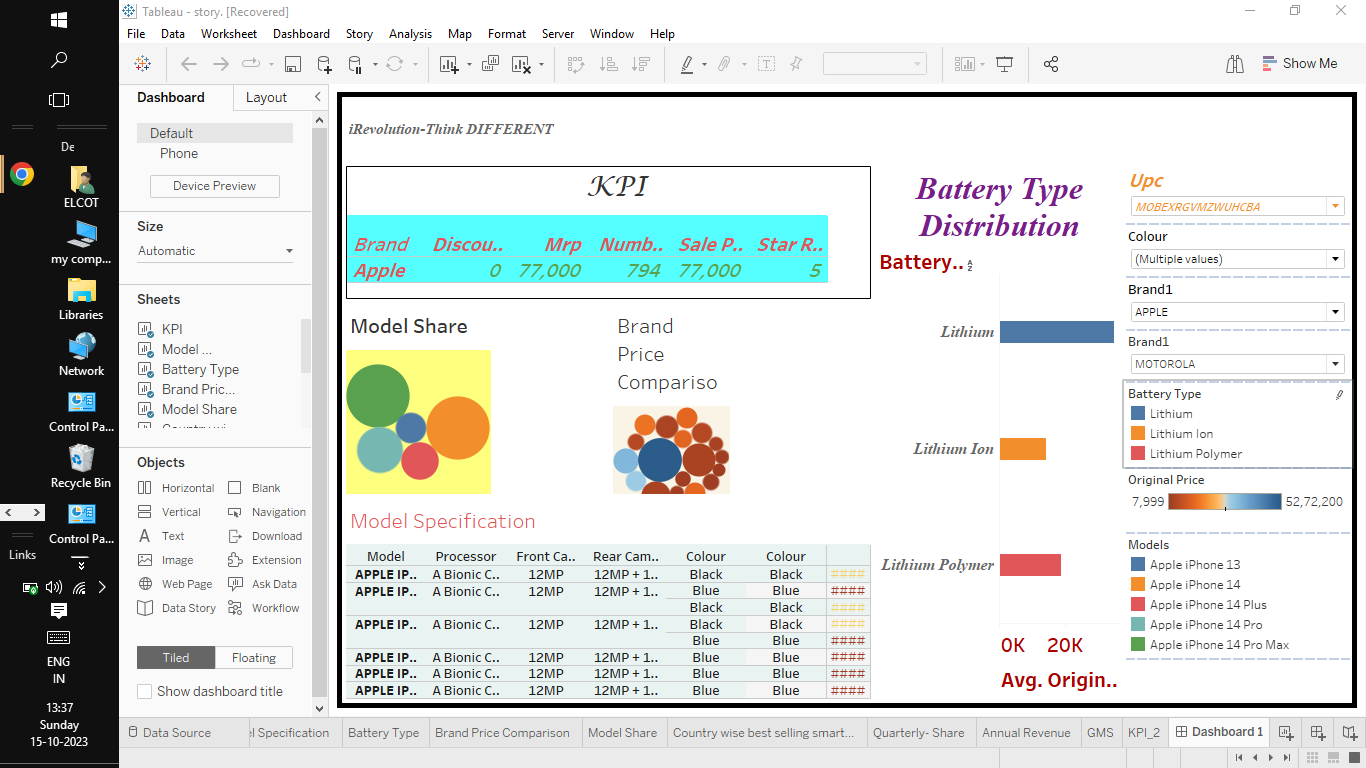

What the dashboard file says about the page in this screenshot:
{"tool":"tableau","page":{"name":"Dashboard 1","canvas":[1000,1000],"units":"permille","ordinal":0},"visuals":[{"type":"text","box":[12.6,20.6,974.9,102.9]},{"type":"worksheet","title":"KPI","mark":"Automatic","rows":["Brand"],"box":[12.6,123.4,514.6,223.7]},{"type":"worksheet","title":"Battery Type","mark":"Bar","rows":["battery_type"],"cols":["original_price"],"box":[527.2,123.4,240.2,856]},{"type":"filter","title":"KPI","param":"[federated.1ins42m11cjpgr178x3am00x400b].[none:Upc:nk]","box":[767.4,123.4,220.1,96.5]},{"type":"filter","title":"Model Specification","param":"[federated.0ej8yky097zauy10cqjcm18eg29n].[none:colour:nk]","box":[767.4,219.9,220.1,83.9]},{"type":"filter","title":"Model Specification","param":"[federated.0ej8yky097zauy10cqjcm18eg29n].[none:brand:nk]","box":[767.4,303.8,220.1,83.9]},{"type":"worksheet","title":"Model Share","mark":"Circle","box":[12.6,347.2,257.3,308.5]},{"type":"worksheet","title":"Brand Price Comparison","mark":"Circle","box":[269.9,347.2,257.3,308.5]},{"type":"filter","title":"Battery Type","param":"[federated.0ej8yky097zauy10cqjcm18eg29n].[none:brand:nk]","box":[767.4,387.7,220.1,82.3]},{"type":"legend","title":"Battery Type","param":"[federated.0ej8yky097zauy10cqjcm18eg29n].[none:battery_type:nk]","box":[767.4,469.9,220.1,136.1]},{"type":"legend","title":"Brand Price Comparison","param":"[federated.0ej8yky097zauy10cqjcm18eg29n].[sum:original_price:qk]","box":[767.4,606,220.1,102.9]},{"type":"worksheet","title":"Model Specification","mark":"Automatic","rows":["model","processor","front_camera","rear_camera","colour","colour"],"box":[12.6,655.6,514.6,323.8]},{"type":"legend","title":"Model Share","param":"[federated.1h1k5hx17dho7q1eh4vzy0mq91uz].[none:Models:nk]","box":[767.4,708.9,220.1,199.4]}]}

Visuals, with their boxes on the dashboard's canvas, which has no fixed pixel size, in thousandths of its width and height (x1, y1, x2, y2). These are canvas units, not pixel positions in the 1366x768 screenshot, which may show the page scaled, cropped or inside an application window:
text: pyautogui.locateOnScreen(13, 21, 988, 124)
"KPI" worksheet: pyautogui.locateOnScreen(13, 123, 527, 347)
"Battery Type" worksheet (Bar marks): pyautogui.locateOnScreen(527, 123, 767, 979)
"KPI" filter: pyautogui.locateOnScreen(767, 123, 988, 220)
"Model Specification" filter: pyautogui.locateOnScreen(767, 220, 988, 304)
"Model Specification" filter: pyautogui.locateOnScreen(767, 304, 988, 388)
"Model Share" worksheet (Circle marks): pyautogui.locateOnScreen(13, 347, 270, 656)
"Brand Price Comparison" worksheet (Circle marks): pyautogui.locateOnScreen(270, 347, 527, 656)
"Battery Type" filter: pyautogui.locateOnScreen(767, 388, 988, 470)
"Battery Type" legend: pyautogui.locateOnScreen(767, 470, 988, 606)
"Brand Price Comparison" legend: pyautogui.locateOnScreen(767, 606, 988, 709)
"Model Specification" worksheet: pyautogui.locateOnScreen(13, 656, 527, 979)
"Model Share" legend: pyautogui.locateOnScreen(767, 709, 988, 908)
